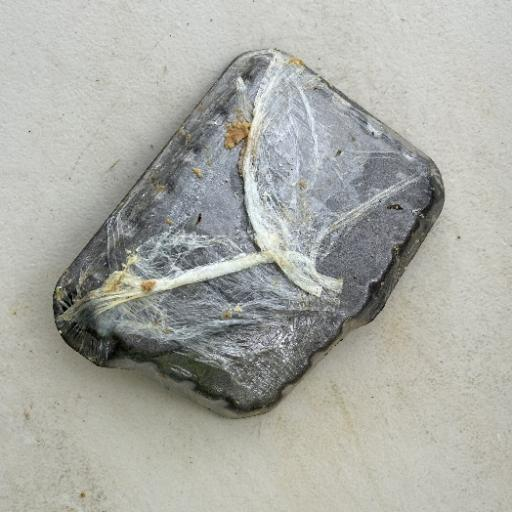Plastic: (50, 46, 446, 420)
